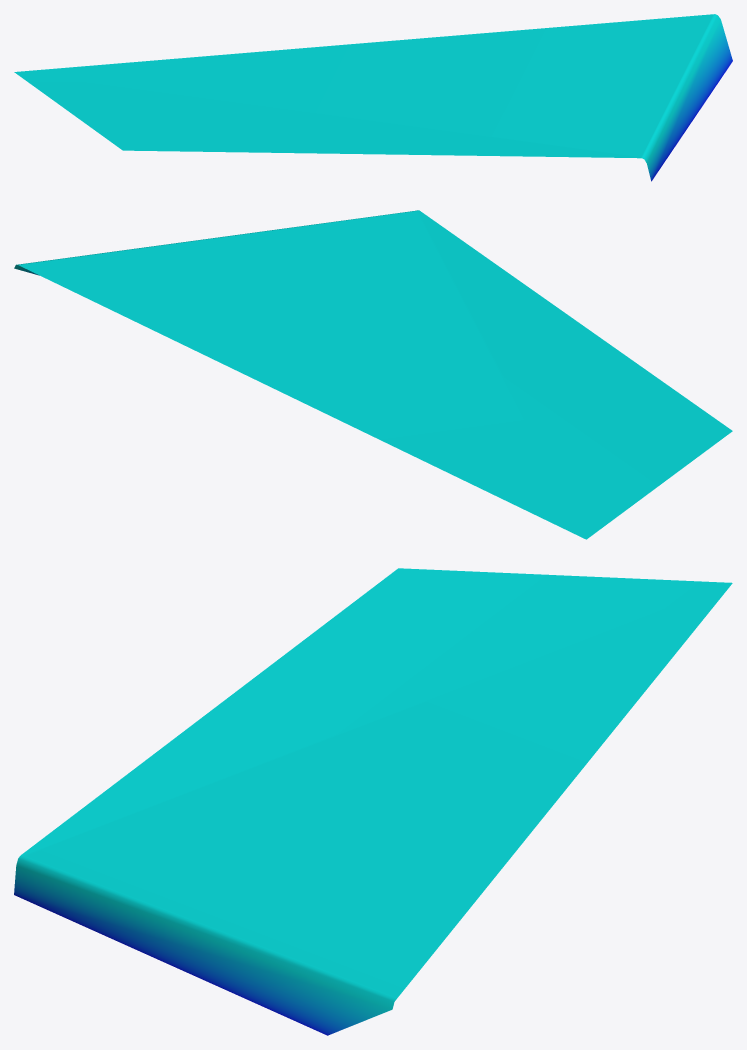
The picture shows the model from 3 angles, top to bottom: view 1: azimuth 30°, elevation 25°; view 2: azimuth 150°, elevation 25°; view 3: azimuth 270°, elevation 25°; orthographic projection. The views are drawn at different scales.
Visible parts, largest first — view 1: SM_VFX_GF_River01_LOD0; view 2: SM_VFX_GF_River01_LOD0; view 3: SM_VFX_GF_River01_LOD0.
Boxes of the visible parts, x1,y1,x2,y2 form: SM_VFX_GF_River01_LOD0: (14,14,732,181); SM_VFX_GF_River01_LOD0: (14,210,732,539); SM_VFX_GF_River01_LOD0: (14,568,732,1035).
Size of the model in its own units: 45.73 by 2.6 by 32.85.
